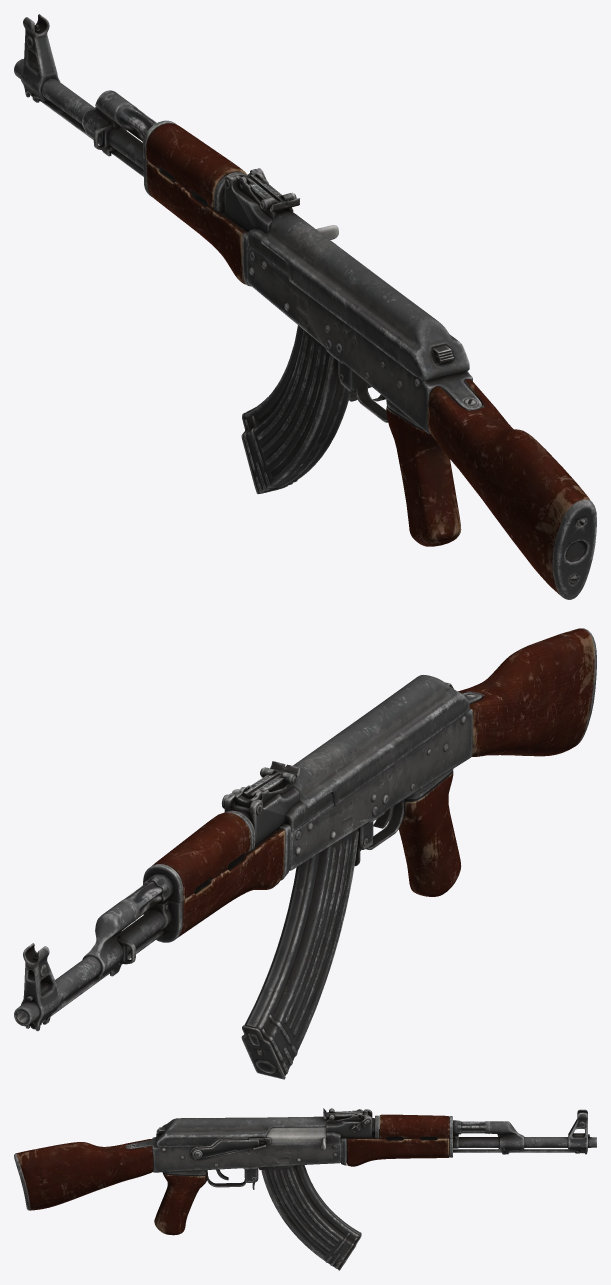
The picture shows the model from 3 angles, top to bottom: view 1: azimuth 30°, elevation 25°; view 2: azimuth 150°, elevation 25°; view 3: azimuth 270°, elevation 25°; orthographic projection. The views are drawn at different scales.
Visible parts, largest first — view 1: AK_0; view 2: AK_0; view 3: AK_0.
Boxes of the visible parts, bbox=[...] form: AK_0: bbox=[14, 14, 596, 599]; AK_0: bbox=[14, 628, 596, 1079]; AK_0: bbox=[14, 1108, 596, 1270].
Size of the model in its own units: 0.7046 by 2.6 by 8.79.
1 material, 1 textured.
